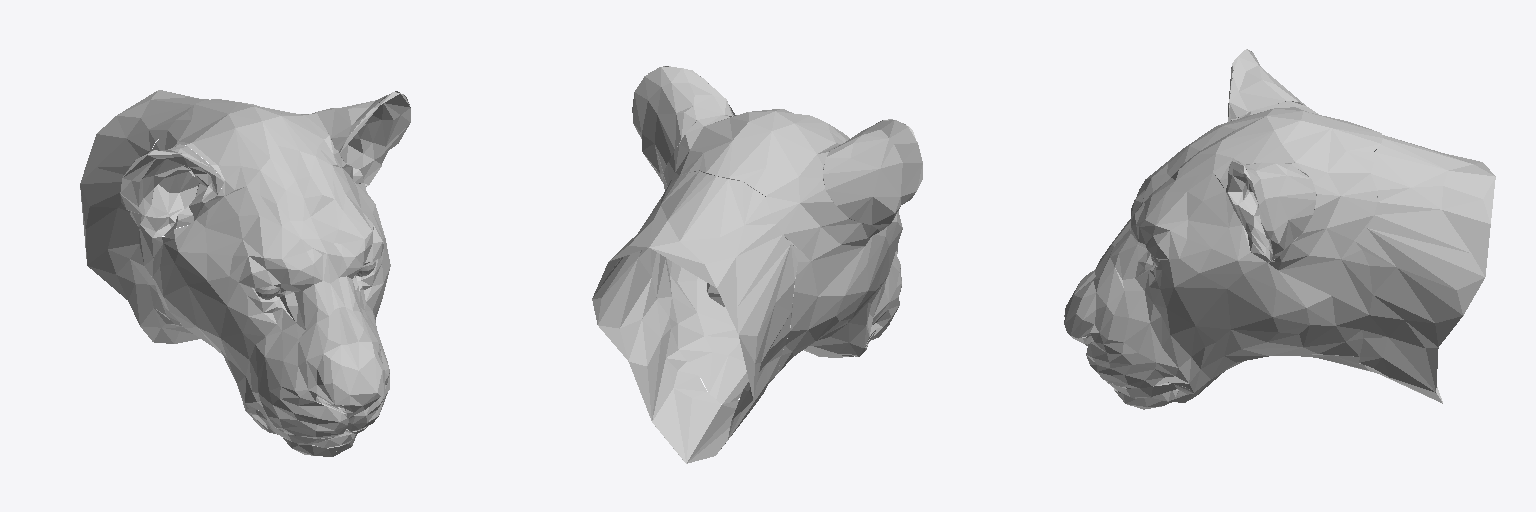
File: l_head.obj
3 views of the same model, side by side, from view 1: azimuth 30°, elevation 25°; view 2: azimuth 150°, elevation 25°; view 3: azimuth 270°, elevation 25° (orthographic).
Visible parts, largest first — view 1: Lioness_Body_Lioness_Body_0.010; view 2: Lioness_Body_Lioness_Body_0.010; view 3: Lioness_Body_Lioness_Body_0.010.
Boxes of the visible parts, <box> form: Lioness_Body_Lioness_Body_0.010: <box>80,90,410,456</box>; Lioness_Body_Lioness_Body_0.010: <box>592,66,922,463</box>; Lioness_Body_Lioness_Body_0.010: <box>1064,49,1495,409</box>.
Bounding box in the file's own units: 1.08 × 1.06 × 1.39.